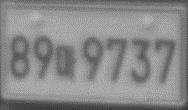3: (129, 37, 152, 83)
7: (153, 38, 177, 85), (105, 37, 128, 82)
8: (8, 33, 31, 80)
9: (80, 35, 104, 82), (32, 35, 54, 80)
마: (54, 44, 77, 81)
